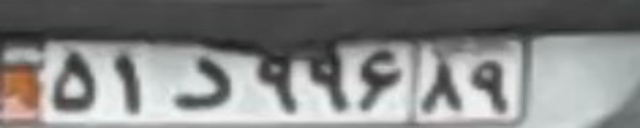1: (110, 51, 142, 116)
5: (49, 52, 98, 111)
6: (354, 49, 401, 110)
8: (421, 55, 460, 113)
9: (251, 53, 298, 114), (307, 54, 346, 110), (469, 59, 507, 115)
dal: (171, 55, 236, 110)
